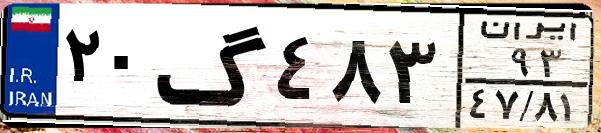0: (110, 28, 156, 98)
1: (560, 70, 590, 125)
2: (57, 26, 110, 100)
3: (385, 28, 445, 110), (537, 27, 568, 80)
4: (270, 28, 330, 110), (470, 70, 495, 125)
7: (495, 70, 520, 125)
8: (330, 28, 385, 110), (535, 70, 560, 125)
9: (508, 27, 537, 80)
گ: (156, 12, 270, 120)
